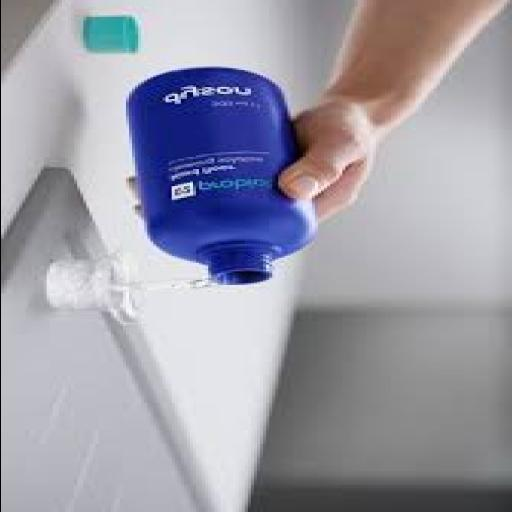blue-bottle: (128, 68, 317, 285)
